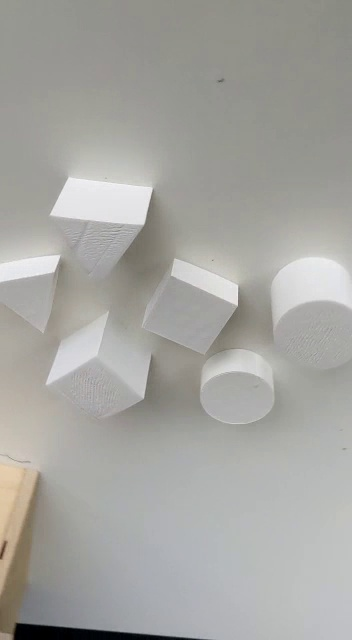Clyinder_short: (196, 346, 275, 428)
Cube: (45, 308, 154, 428)
Cube_short: (136, 256, 242, 361)
Cylinder: (268, 254, 352, 373)
Triangle: (49, 171, 156, 283)
Triangle_short: (1, 250, 64, 336)
